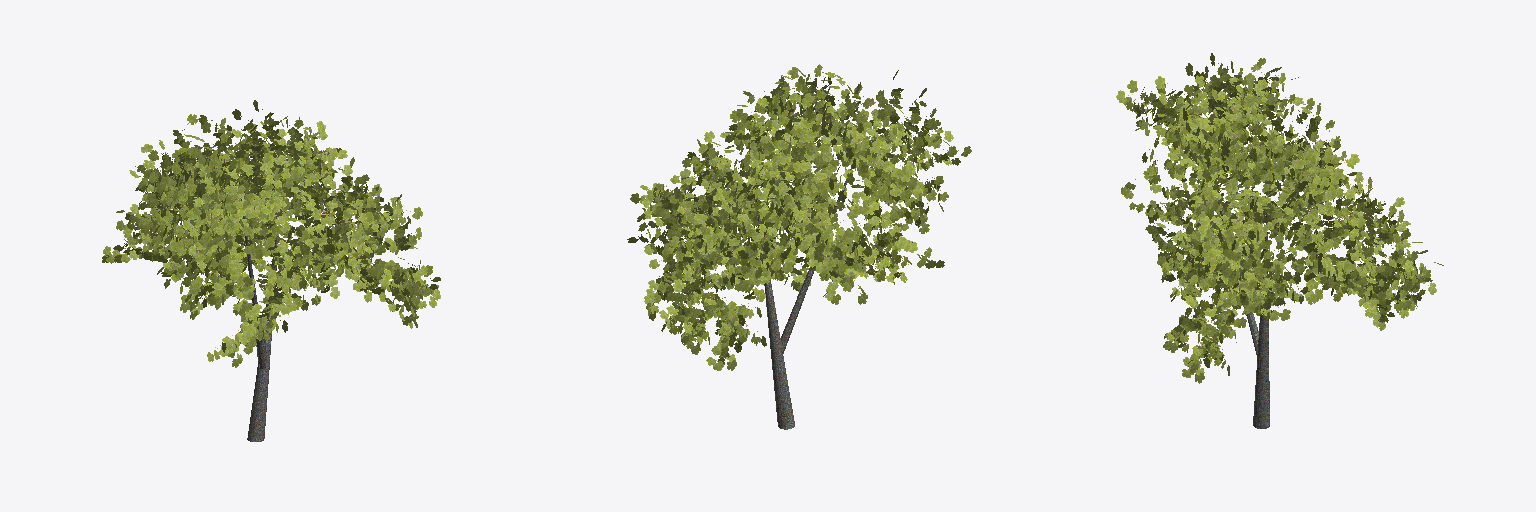
The picture shows the model from 3 angles: view 1: azimuth 30°, elevation 25°; view 2: azimuth 150°, elevation 25°; view 3: azimuth 270°, elevation 25°; orthographic projection.
Parts seen in each view (by area): view 1: EU03_i11_1 Obj_foliage, Obj_branches EU03_i11_1; view 2: EU03_i11_1 Obj_foliage, Obj_branches EU03_i11_1; view 3: EU03_i11_1 Obj_foliage, Obj_branches EU03_i11_1.
Part boxes in pixels (x1,y1,x2,y2): EU03_i11_1 Obj_foliage: (102,100,440,367); Obj_branches EU03_i11_1: (239,182,280,441); EU03_i11_1 Obj_foliage: (627,64,971,370); Obj_branches EU03_i11_1: (755,120,870,429); EU03_i11_1 Obj_foliage: (1116,53,1443,383); Obj_branches EU03_i11_1: (1214,186,1269,428).
Bounding box in the file's own units: 2324 × 2606 × 2239.
Materials: 2 (2 with a texture image).